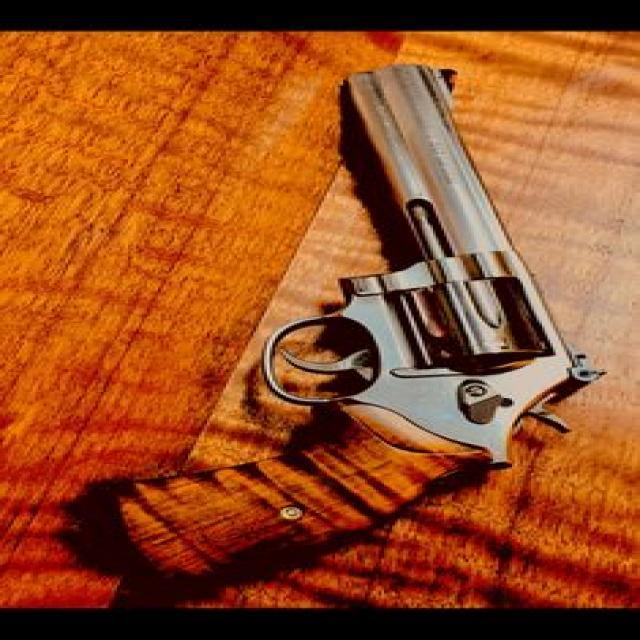revolver: (23, 36, 640, 606)
